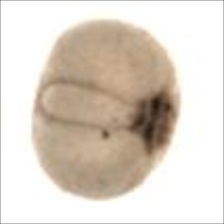L5: (35, 76, 140, 133), (134, 88, 178, 158)
L6: (28, 17, 181, 204)
